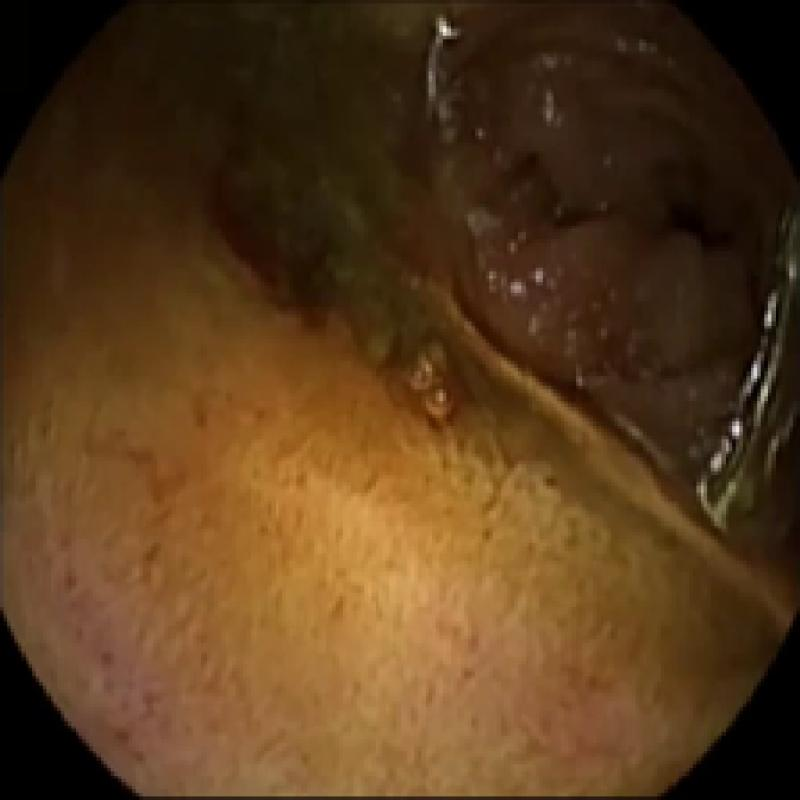bleeding: (214, 164, 340, 318)
